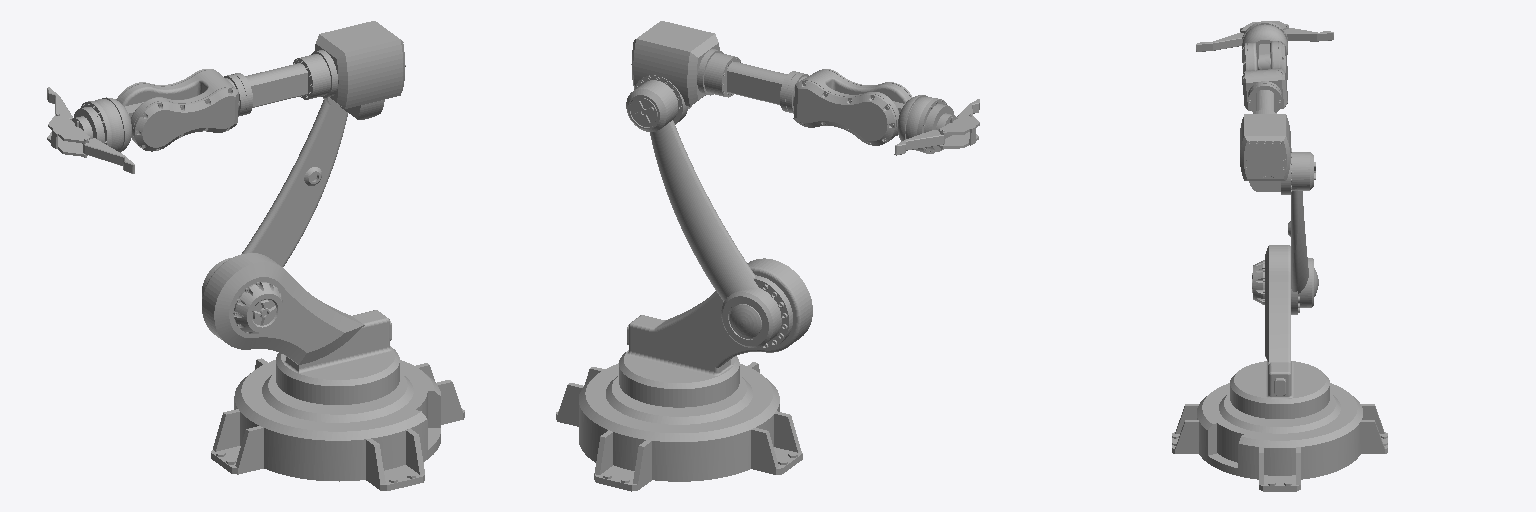
robot.urdf — conbime_ver1:
<?xml version="1.0" ?>
<!-- =================================================================================== -->
<!-- |    This document was autogenerated by xacro from urdf/conbime_ver1.xacro        | -->
<!-- |    EDITING THIS FILE BY HAND IS NOT RECOMMENDED                                 | -->
<!-- =================================================================================== -->
<robot xmlns:xacro="http://www.ros.org/wiki/xacro" name="conbime_ver1">
  <material name="silver">
    <color rgba="0.700 0.700 0.700 1.000"/>
  </material>
  <transmission name="Revolute 1_tran">
    <type>transmission_interface/SimpleTransmission</type>
    <joint name="Revolute 1">
      <hardwareInterface>hardware_interface/EffortJointInterface</hardwareInterface>
    </joint>
    <actuator name="Revolute 1_actr">
      <hardwareInterface>hardware_interface/EffortJointInterface</hardwareInterface>
      <mechanicalReduction>1</mechanicalReduction>
    </actuator>
  </transmission>
  <transmission name="Revolute 2_tran">
    <type>transmission_interface/SimpleTransmission</type>
    <joint name="Revolute 2">
      <hardwareInterface>hardware_interface/EffortJointInterface</hardwareInterface>
    </joint>
    <actuator name="Revolute 2_actr">
      <hardwareInterface>hardware_interface/EffortJointInterface</hardwareInterface>
      <mechanicalReduction>1</mechanicalReduction>
    </actuator>
  </transmission>
  <transmission name="Revolute 3_tran">
    <type>transmission_interface/SimpleTransmission</type>
    <joint name="Revolute 3">
      <hardwareInterface>hardware_interface/EffortJointInterface</hardwareInterface>
    </joint>
    <actuator name="Revolute 3_actr">
      <hardwareInterface>hardware_interface/EffortJointInterface</hardwareInterface>
      <mechanicalReduction>1</mechanicalReduction>
    </actuator>
  </transmission>
  <transmission name="Revolute 5_tran">
    <type>transmission_interface/SimpleTransmission</type>
    <joint name="Revolute 5">
      <hardwareInterface>hardware_interface/EffortJointInterface</hardwareInterface>
    </joint>
    <actuator name="Revolute 5_actr">
      <hardwareInterface>hardware_interface/EffortJointInterface</hardwareInterface>
      <mechanicalReduction>1</mechanicalReduction>
    </actuator>
  </transmission>
  <transmission name="Revolute 6_tran">
    <type>transmission_interface/SimpleTransmission</type>
    <joint name="Revolute 6">
      <hardwareInterface>hardware_interface/EffortJointInterface</hardwareInterface>
    </joint>
    <actuator name="Revolute 6_actr">
      <hardwareInterface>hardware_interface/EffortJointInterface</hardwareInterface>
      <mechanicalReduction>1</mechanicalReduction>
    </actuator>
  </transmission>
  <transmission name="Revolute 7_tran">
    <type>transmission_interface/SimpleTransmission</type>
    <joint name="Revolute 7">
      <hardwareInterface>hardware_interface/EffortJointInterface</hardwareInterface>
    </joint>
    <actuator name="Revolute 7_actr">
      <hardwareInterface>hardware_interface/EffortJointInterface</hardwareInterface>
      <mechanicalReduction>1</mechanicalReduction>
    </actuator>
  </transmission>
  <transmission name="Revolute 10_tran">
    <type>transmission_interface/SimpleTransmission</type>
    <joint name="Revolute 10">
      <hardwareInterface>hardware_interface/EffortJointInterface</hardwareInterface>
    </joint>
    <actuator name="Revolute 10_actr">
      <hardwareInterface>hardware_interface/EffortJointInterface</hardwareInterface>
      <mechanicalReduction>1</mechanicalReduction>
    </actuator>
  </transmission>
  <transmission name="Revolute 11_tran">
    <type>transmission_interface/SimpleTransmission</type>
    <joint name="Revolute 11">
      <hardwareInterface>hardware_interface/EffortJointInterface</hardwareInterface>
    </joint>
    <actuator name="Revolute 11_actr">
      <hardwareInterface>hardware_interface/EffortJointInterface</hardwareInterface>
      <mechanicalReduction>1</mechanicalReduction>
    </actuator>
  </transmission>
  <gazebo>
    <plugin name="control" filename="libgazebo_ros_control.so"/>
  </gazebo>
  <gazebo reference="base_link">
    <material>Gazebo/Silver</material>
    <mu1>0.2</mu1>
    <mu2>0.2</mu2>
    <selfCollide>true</selfCollide>
    <gravity>true</gravity>
  </gazebo>
  <gazebo reference="Robotic_Arm_ver1_2urdf_Component2_v1_1">
    <material>Gazebo/Silver</material>
    <mu1>0.2</mu1>
    <mu2>0.2</mu2>
    <selfCollide>true</selfCollide>
  </gazebo>
  <gazebo reference="Robotic_Arm_ver1_2urdf_Component3_v1_1">
    <material>Gazebo/Silver</material>
    <mu1>0.2</mu1>
    <mu2>0.2</mu2>
    <selfCollide>true</selfCollide>
  </gazebo>
  <gazebo reference="Robotic_Arm_ver1_2urdf_Component4_v1_1">
    <material>Gazebo/Silver</material>
    <mu1>0.2</mu1>
    <mu2>0.2</mu2>
    <selfCollide>true</selfCollide>
  </gazebo>
  <gazebo reference="Robotic_Arm_ver1_2urdf_Component5_v1_1">
    <material>Gazebo/Silver</material>
    <mu1>0.2</mu1>
    <mu2>0.2</mu2>
    <selfCollide>true</selfCollide>
  </gazebo>
  <gazebo reference="Robotic_Arm_ver1_2urdf_Component6_v1_1">
    <material>Gazebo/Silver</material>
    <mu1>0.2</mu1>
    <mu2>0.2</mu2>
    <selfCollide>true</selfCollide>
  </gazebo>
  <gazebo reference="Robotic_Arm_ver1_2urdf_Component7_v1_1">
    <material>Gazebo/Silver</material>
    <mu1>0.2</mu1>
    <mu2>0.2</mu2>
    <selfCollide>true</selfCollide>
  </gazebo>
  <gazebo reference="Robotic_Arm_ver1_2urdf_Component8_v1_1">
    <material>Gazebo/Silver</material>
    <mu1>0.2</mu1>
    <mu2>0.2</mu2>
    <selfCollide>true</selfCollide>
  </gazebo>
  <gazebo reference="Robotic_Arm_ver1_2urdf_Component8_v1__1__1">
    <material>Gazebo/Silver</material>
    <mu1>0.2</mu1>
    <mu2>0.2</mu2>
    <selfCollide>true</selfCollide>
  </gazebo>
  <link name="base_link">
    <inertial>
      <origin xyz="0.0007806396519895977 -0.0007806396451176688 0.048593515527982106" rpy="0 0 0"/>
      <mass value="12.473677758806172"/>
      <inertia ixx="0.118752" iyy="0.118752" izz="0.218412" ixy="0.000272" iyz="-0.000713" ixz="0.000713"/>
    </inertial>
    <visual>
      <origin xyz="0 0 0" rpy="0 0 0"/>
      <geometry>
        <mesh filename="package://conbime_ver1_description/meshes/base_link.stl" scale="0.001 0.001 0.001"/>
      </geometry>
      <material name="silver"/>
    </visual>
    <collision>
      <origin xyz="0 0 0" rpy="0 0 0"/>
      <geometry>
        <mesh filename="package://conbime_ver1_description/meshes/base_link.stl" scale="0.001 0.001 0.001"/>
      </geometry>
    </collision>
  </link>
  <link name="Robotic_Arm_ver1_2urdf_Component2_v1_1">
    <inertial>
      <origin xyz="-0.056861586080370785 -0.002799253146421256 0.072902279125296" rpy="0 0 0"/>
      <mass value="18.09836147401845"/>
      <inertia ixx="0.09336" iyy="0.186513" izz="0.127406" ixy="-0.003762" iyz="0.003286" ixz="0.071121"/>
    </inertial>
    <visual>
      <origin xyz="-0.0 -0.0 -0.104" rpy="0 0 0"/>
      <geometry>
        <mesh filename="package://conbime_ver1_description/meshes/Robotic_Arm_ver1_2urdf_Component2_v1_1.stl" scale="0.001 0.001 0.001"/>
      </geometry>
      <material name="silver"/>
    </visual>
    <collision>
      <origin xyz="-0.0 -0.0 -0.104" rpy="0 0 0"/>
      <geometry>
        <mesh filename="package://conbime_ver1_description/meshes/Robotic_Arm_ver1_2urdf_Component2_v1_1.stl" scale="0.001 0.001 0.001"/>
      </geometry>
    </collision>
  </link>
  <link name="Robotic_Arm_ver1_2urdf_Component3_v1_1">
    <inertial>
      <origin xyz="0.07519560671235662 0.035272202867928204 0.11434064250837306" rpy="0 0 0"/>
      <mass value="6.899811543127018"/>
      <inertia ixx="0.09868" iyy="0.134098" izz="0.037409" ixy="0.000582" iyz="0.000608" ixz="-0.055788"/>
    </inertial>
    <visual>
      <origin xyz="0.15 -0.0 -0.254" rpy="0 0 0"/>
      <geometry>
        <mesh filename="package://conbime_ver1_description/meshes/Robotic_Arm_ver1_2urdf_Component3_v1_1.stl" scale="0.001 0.001 0.001"/>
      </geometry>
      <material name="silver"/>
    </visual>
    <collision>
      <origin xyz="0.15 -0.0 -0.254" rpy="0 0 0"/>
      <geometry>
        <mesh filename="package://conbime_ver1_description/meshes/Robotic_Arm_ver1_2urdf_Component3_v1_1.stl" scale="0.001 0.001 0.001"/>
      </geometry>
    </collision>
  </link>
  <link name="Robotic_Arm_ver1_2urdf_Component4_v1_1">
    <inertial>
      <origin xyz="-0.03544557690535207 -0.02504426465095886 0.038926916052581695" rpy="0 0 0"/>
      <mass value="9.992708750642434"/>
      <inertia ixx="0.01335" iyy="0.051348" izz="0.048383" ixy="-0.000664" iyz="0.000865" ixz="0.002152"/>
    </inertial>
    <visual>
      <origin xyz="-0.025 -0.0 -0.557109" rpy="0 0 0"/>
      <geometry>
        <mesh filename="package://conbime_ver1_description/meshes/Robotic_Arm_ver1_2urdf_Component4_v1_1.stl" scale="0.001 0.001 0.001"/>
      </geometry>
      <material name="silver"/>
    </visual>
    <collision>
      <origin xyz="-0.025 -0.0 -0.557109" rpy="0 0 0"/>
      <geometry>
        <mesh filename="package://conbime_ver1_description/meshes/Robotic_Arm_ver1_2urdf_Component4_v1_1.stl" scale="0.001 0.001 0.001"/>
      </geometry>
    </collision>
  </link>
  <link name="Robotic_Arm_ver1_2urdf_Component5_v1_1">
    <inertial>
      <origin xyz="-0.09983507706433631 9.234350483583453e-08 -9.146592294673184e-08" rpy="0 0 0"/>
      <mass value="4.896549506749971"/>
      <inertia ixx="0.004578" iyy="0.01561" izz="0.0169" ixy="-0.0" iyz="-0.000114" ixz="0.0"/>
    </inertial>
    <visual>
      <origin xyz="0.176 0.026956 -0.602109" rpy="0 0 0"/>
      <geometry>
        <mesh filename="package://conbime_ver1_description/meshes/Robotic_Arm_ver1_2urdf_Component5_v1_1.stl" scale="0.001 0.001 0.001"/>
      </geometry>
      <material name="silver"/>
    </visual>
    <collision>
      <origin xyz="0.176 0.026956 -0.602109" rpy="0 0 0"/>
      <geometry>
        <mesh filename="package://conbime_ver1_description/meshes/Robotic_Arm_ver1_2urdf_Component5_v1_1.stl" scale="0.001 0.001 0.001"/>
      </geometry>
    </collision>
  </link>
  <link name="Robotic_Arm_ver1_2urdf_Component6_v1_1">
    <inertial>
      <origin xyz="-0.05967268352428523 1.0724235042364194e-07 -1.0867544730785994e-07" rpy="0 0 0"/>
      <mass value="2.4502212088594106"/>
      <inertia ixx="0.001685" iyy="0.00255" izz="0.002528" ixy="-0.0" iyz="2e-06" ixz="-0.0"/>
    </inertial>
    <visual>
      <origin xyz="0.334479 0.026956 -0.602109" rpy="0 0 0"/>
      <geometry>
        <mesh filename="package://conbime_ver1_description/meshes/Robotic_Arm_ver1_2urdf_Component6_v1_1.stl" scale="0.001 0.001 0.001"/>
      </geometry>
      <material name="silver"/>
    </visual>
    <collision>
      <origin xyz="0.334479 0.026956 -0.602109" rpy="0 0 0"/>
      <geometry>
        <mesh filename="package://conbime_ver1_description/meshes/Robotic_Arm_ver1_2urdf_Component6_v1_1.stl" scale="0.001 0.001 0.001"/>
      </geometry>
    </collision>
  </link>
  <link name="Robotic_Arm_ver1_2urdf_Component7_v1_1">
    <inertial>
      <origin xyz="-0.008207251146720884 1.0724226958205851e-07 -1.0867565514161015e-07" rpy="0 0 0"/>
      <mass value="0.631045998433483"/>
      <inertia ixx="0.000333" iyy="0.000302" izz="0.000359" ixy="0.0" iyz="-5e-06" ixz="-0.0"/>
    </inertial>
    <visual>
      <origin xyz="0.438479 0.026956 -0.602109" rpy="0 0 0"/>
      <geometry>
        <mesh filename="package://conbime_ver1_description/meshes/Robotic_Arm_ver1_2urdf_Component7_v1_1.stl" scale="0.001 0.001 0.001"/>
      </geometry>
      <material name="silver"/>
    </visual>
    <collision>
      <origin xyz="0.438479 0.026956 -0.602109" rpy="0 0 0"/>
      <geometry>
        <mesh filename="package://conbime_ver1_description/meshes/Robotic_Arm_ver1_2urdf_Component7_v1_1.stl" scale="0.001 0.001 0.001"/>
      </geometry>
    </collision>
  </link>
  <link name="Robotic_Arm_ver1_2urdf_Component8_v1_1">
    <inertial>
      <origin xyz="0.019057080834595952 -0.025186074755067803 -0.003199260230019152" rpy="0 0 0"/>
      <mass value="0.17302061542980338"/>
      <inertia ixx="0.000109" iyy="2e-05" izz="0.00012" ixy="3.2e-05" iyz="-9e-06" ixz="3e-06"/>
    </inertial>
    <visual>
      <origin xyz="0.461371 0.06761 -0.598552" rpy="0 0 0"/>
      <geometry>
        <mesh filename="package://conbime_ver1_description/meshes/Robotic_Arm_ver1_2urdf_Component8_v1_1.stl" scale="0.001 0.001 0.001"/>
      </geometry>
      <material name="silver"/>
    </visual>
    <collision>
      <origin xyz="0.461371 0.06761 -0.598552" rpy="0 0 0"/>
      <geometry>
        <mesh filename="package://conbime_ver1_description/meshes/Robotic_Arm_ver1_2urdf_Component8_v1_1.stl" scale="0.001 0.001 0.001"/>
      </geometry>
    </collision>
  </link>
  <link name="Robotic_Arm_ver1_2urdf_Component8_v1__1__1">
    <inertial>
      <origin xyz="0.019021962261610736 0.025124486149085037 0.003193621578866379" rpy="0 0 0"/>
      <mass value="0.17302028685492585"/>
      <inertia ixx="0.000109" iyy="2e-05" izz="0.00012" ixy="-3.1e-05" iyz="-9e-06" ixz="-3e-06"/>
    </inertial>
    <visual>
      <origin xyz="0.461371 -0.013698 -0.605666" rpy="0 0 0"/>
      <geometry>
        <mesh filename="package://conbime_ver1_description/meshes/Robotic_Arm_ver1_2urdf_Component8_v1__1__1.stl" scale="0.001 0.001 0.001"/>
      </geometry>
      <material name="silver"/>
    </visual>
    <collision>
      <origin xyz="0.461371 -0.013698 -0.605666" rpy="0 0 0"/>
      <geometry>
        <mesh filename="package://conbime_ver1_description/meshes/Robotic_Arm_ver1_2urdf_Component8_v1__1__1.stl" scale="0.001 0.001 0.001"/>
      </geometry>
    </collision>
  </link>
  <joint name="Revolute 1" type="continuous">
    <origin xyz="0.0 0.0 0.104" rpy="0 0 0"/>
    <parent link="base_link"/>
    <child link="Robotic_Arm_ver1_2urdf_Component2_v1_1"/>
    <axis xyz="0.0 0.0 1.0"/>
  </joint>
  <joint name="Revolute 2" type="continuous">
    <origin xyz="-0.15 0.0 0.15" rpy="0 0 0"/>
    <parent link="Robotic_Arm_ver1_2urdf_Component2_v1_1"/>
    <child link="Robotic_Arm_ver1_2urdf_Component3_v1_1"/>
    <axis xyz="0.0 1.0 -0.0"/>
  </joint>
  <joint name="Revolute 3" type="continuous">
    <origin xyz="0.175 0.0 0.303109" rpy="0 0 0"/>
    <parent link="Robotic_Arm_ver1_2urdf_Component3_v1_1"/>
    <child link="Robotic_Arm_ver1_2urdf_Component4_v1_1"/>
    <axis xyz="0.0 -1.0 0.0"/>
  </joint>
  <joint name="Revolute 5" type="continuous">
    <origin xyz="-0.201 -0.026956 0.045" rpy="0 0 0"/>
    <parent link="Robotic_Arm_ver1_2urdf_Component4_v1_1"/>
    <child link="Robotic_Arm_ver1_2urdf_Component5_v1_1"/>
    <axis xyz="-1.0 -0.0 0.0"/>
  </joint>
  <joint name="Revolute 6" type="continuous">
    <origin xyz="-0.158479 0.0 0.0" rpy="0 0 0"/>
    <parent link="Robotic_Arm_ver1_2urdf_Component5_v1_1"/>
    <child link="Robotic_Arm_ver1_2urdf_Component6_v1_1"/>
    <axis xyz="0.0 0.996195 0.087156"/>
  </joint>
  <joint name="Revolute 7" type="continuous">
    <origin xyz="-0.104 0.0 0.0" rpy="0 0 0"/>
    <parent link="Robotic_Arm_ver1_2urdf_Component6_v1_1"/>
    <child link="Robotic_Arm_ver1_2urdf_Component7_v1_1"/>
    <axis xyz="-1.0 0.0 -0.0"/>
  </joint>
  <joint name="Revolute 10" type="continuous">
    <origin xyz="-0.022892 -0.040654 -0.003557" rpy="0 0 0"/>
    <parent link="Robotic_Arm_ver1_2urdf_Component7_v1_1"/>
    <child link="Robotic_Arm_ver1_2urdf_Component8_v1_1"/>
    <axis xyz="-0.0 -0.087156 0.996195"/>
  </joint>
  <joint name="Revolute 11" type="continuous">
    <origin xyz="-0.022892 0.040654 0.003557" rpy="0 0 0"/>
    <parent link="Robotic_Arm_ver1_2urdf_Component7_v1_1"/>
    <child link="Robotic_Arm_ver1_2urdf_Component8_v1__1__1"/>
    <axis xyz="-0.0 -0.087156 0.996195"/>
  </joint>
</robot>

--- Render facts (derived) ---
The picture shows the robot from 3 angles, left to right: view 1: azimuth 30°, elevation 25°; view 2: azimuth 150°, elevation 25°; view 3: azimuth 270°, elevation 25°; orthographic projection.
Robot: conbime_ver1 — 9 links, 8 joints (8 continuous); root link base_link; default pose: all joints at 0.
Links seen in each view (by area): view 1: base_link, Robotic_Arm_ver1_2urdf_Component2_v1_1, Robotic_Arm_ver1_2urdf_Component4_v1_1, Robotic_Arm_ver1_2urdf_Component5_v1_1, Robotic_Arm_ver1_2urdf_Component3_v1_1, Robotic_Arm_ver1_2urdf_Component7_v1_1, Robotic_Arm_ver1_2urdf_Component6_v1_1, Robotic_Arm_ver1_2urdf_Component8_v1_1; view 2: base_link, Robotic_Arm_ver1_2urdf_Component3_v1_1, Robotic_Arm_ver1_2urdf_Component2_v1_1, Robotic_Arm_ver1_2urdf_Component4_v1_1, Robotic_Arm_ver1_2urdf_Component5_v1_1, Robotic_Arm_ver1_2urdf_Component7_v1_1, Robotic_Arm_ver1_2urdf_Component6_v1_1, Robotic_Arm_ver1_2urdf_Component8_v1__1__1; view 3: base_link, Robotic_Arm_ver1_2urdf_Component2_v1_1, Robotic_Arm_ver1_2urdf_Component4_v1_1, Robotic_Arm_ver1_2urdf_Component3_v1_1, Robotic_Arm_ver1_2urdf_Component5_v1_1, Robotic_Arm_ver1_2urdf_Component6_v1_1.
Link boxes in pixels (x1,y1,x2,y2): base_link: (211, 358, 464, 490); Robotic_Arm_ver1_2urdf_Component2_v1_1: (202, 253, 399, 404); Robotic_Arm_ver1_2urdf_Component4_v1_1: (224, 21, 405, 119); Robotic_Arm_ver1_2urdf_Component5_v1_1: (116, 69, 239, 151); Robotic_Arm_ver1_2urdf_Component3_v1_1: (202, 100, 347, 297); Robotic_Arm_ver1_2urdf_Component7_v1_1: (47, 107, 102, 157); Robotic_Arm_ver1_2urdf_Component6_v1_1: (81, 97, 143, 152); Robotic_Arm_ver1_2urdf_Component8_v1_1: (83, 138, 134, 173); base_link: (556, 362, 802, 491); Robotic_Arm_ver1_2urdf_Component3_v1_1: (626, 80, 792, 349); Robotic_Arm_ver1_2urdf_Component2_v1_1: (619, 258, 812, 407); Robotic_Arm_ver1_2urdf_Component4_v1_1: (631, 21, 808, 124); Robotic_Arm_ver1_2urdf_Component5_v1_1: (793, 69, 912, 145); Robotic_Arm_ver1_2urdf_Component7_v1_1: (926, 104, 979, 151); Robotic_Arm_ver1_2urdf_Component6_v1_1: (893, 95, 947, 153); Robotic_Arm_ver1_2urdf_Component8_v1__1__1: (894, 129, 945, 155); base_link: (1172, 383, 1387, 491); Robotic_Arm_ver1_2urdf_Component2_v1_1: (1230, 245, 1329, 418); Robotic_Arm_ver1_2urdf_Component4_v1_1: (1240, 81, 1291, 194); Robotic_Arm_ver1_2urdf_Component3_v1_1: (1288, 152, 1318, 314); Robotic_Arm_ver1_2urdf_Component5_v1_1: (1242, 41, 1287, 110); Robotic_Arm_ver1_2urdf_Component6_v1_1: (1242, 22, 1287, 69).
Size in the robot's own frame: 0.6863 by 0.3905 by 0.6471 metres.
9 mesh visuals loaded from 9 distinct referenced files (9 binary STL).
